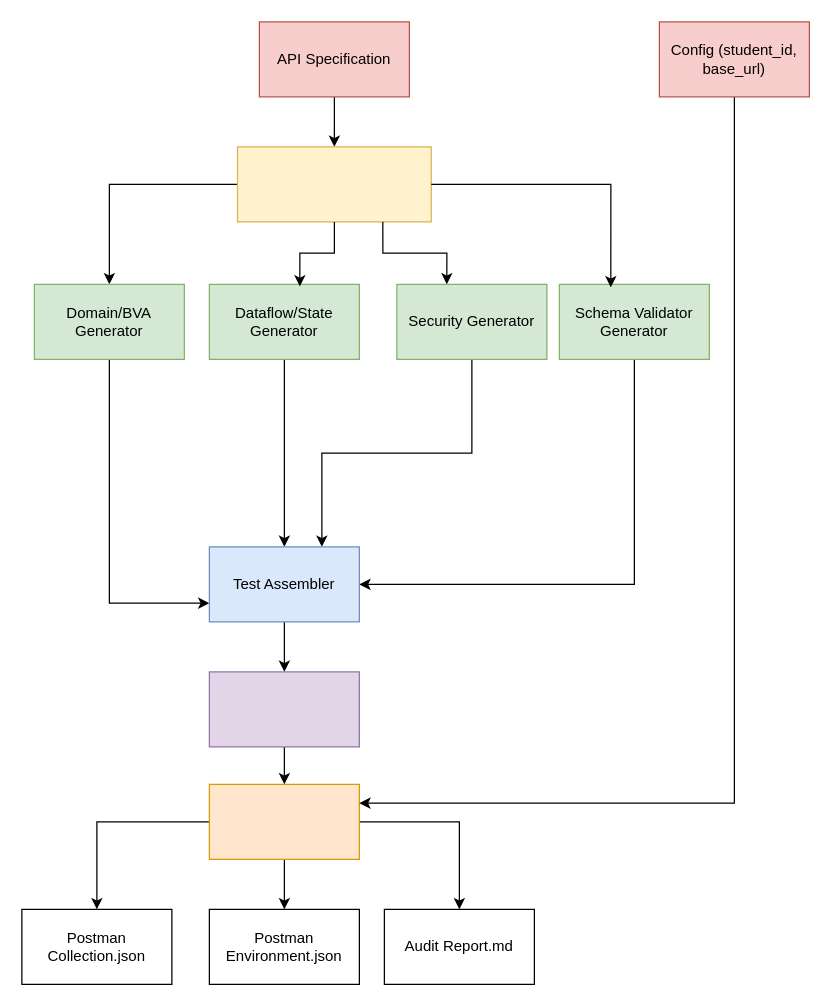
This 831x1006 diagram has some shape labels left out. Here are the shapes that lost their labels. From the top down, the centre of each, then its label:
At point (333, 184): "Parsing Layer (Spec Parser)".
At point (283, 709): "Human Review Gate (Audit)".
At point (283, 821): "Anti-Cheat Injector".
